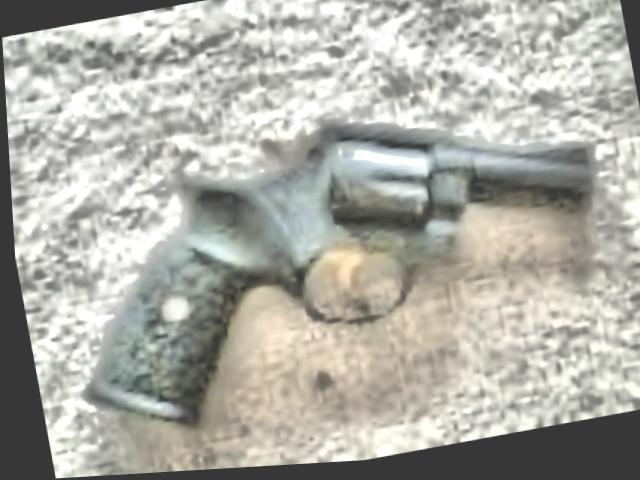pistol: (34, 79, 610, 455)
